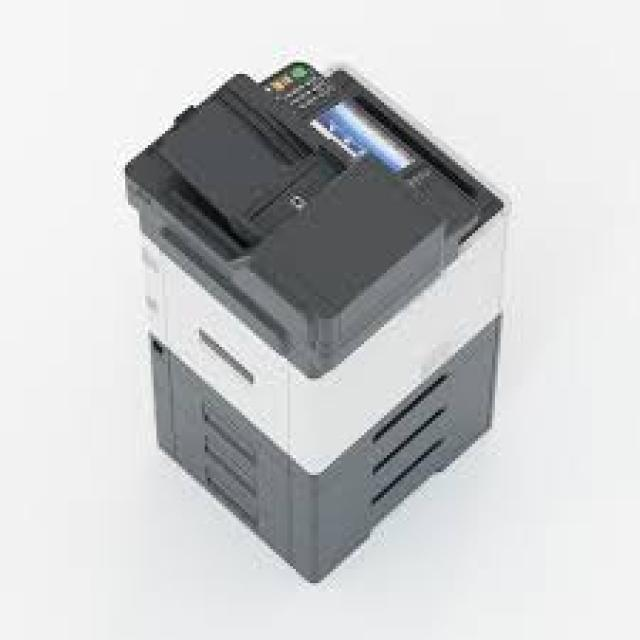printer: (122, 57, 509, 583)
